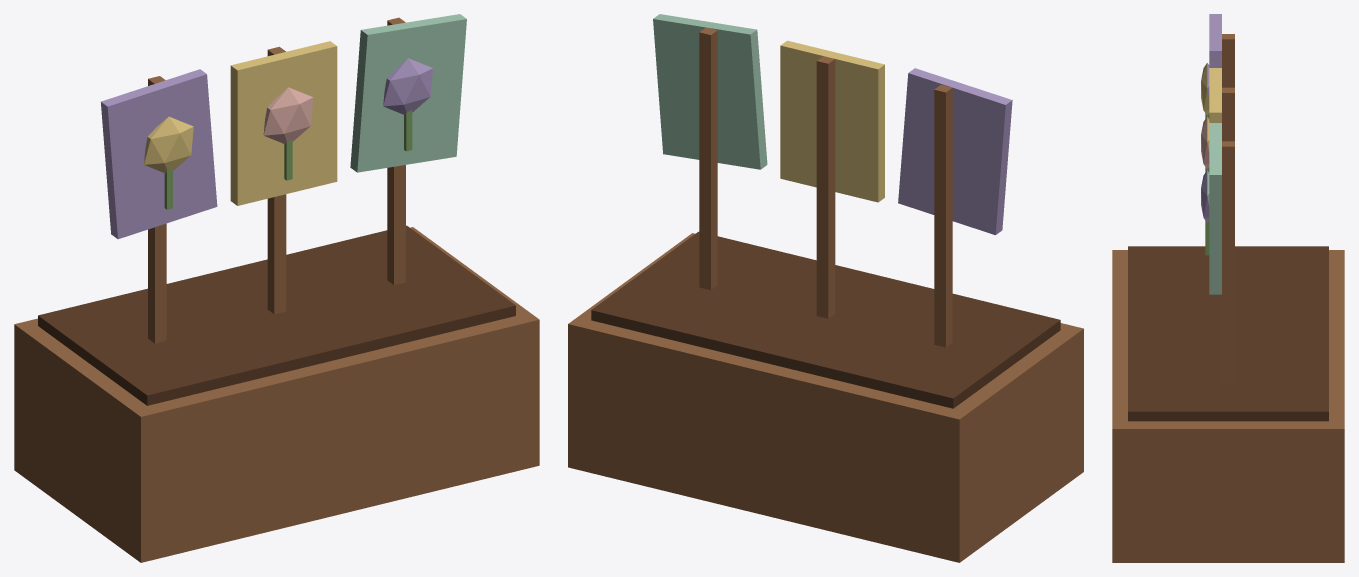
The model's file is Kit_Calm_Hint_Planter.glb.
3 renders of one model, left to right at view 1: azimuth 30°, elevation 25°; view 2: azimuth 150°, elevation 25°; view 3: azimuth 270°, elevation 25°, orthographic. The views are drawn at different scales.
Parts seen in each view (by area): view 1: EX_HintPlanter_Wood, EX_HintPlanter_Fabric, EX_HintPlanter_Bark; view 2: EX_HintPlanter_Wood, EX_HintPlanter_Bark, EX_HintPlanter_Fabric; view 3: EX_HintPlanter_Wood, EX_HintPlanter_Bark, EX_HintPlanter_Fabric.
Boxes of the visible parts, x1,y1,x2,y2 form: EX_HintPlanter_Wood: (14, 17, 539, 562); EX_HintPlanter_Fabric: (101, 14, 466, 239); EX_HintPlanter_Bark: (38, 225, 515, 405); EX_HintPlanter_Wood: (568, 27, 1083, 562); EX_HintPlanter_Bark: (591, 231, 1060, 408); EX_HintPlanter_Fabric: (653, 14, 1012, 235); EX_HintPlanter_Wood: (1112, 34, 1344, 562); EX_HintPlanter_Bark: (1128, 246, 1328, 421); EX_HintPlanter_Fabric: (1201, 14, 1221, 294).
Bounding box in the file's own units: 0.6 × 0.6054 × 0.33.
